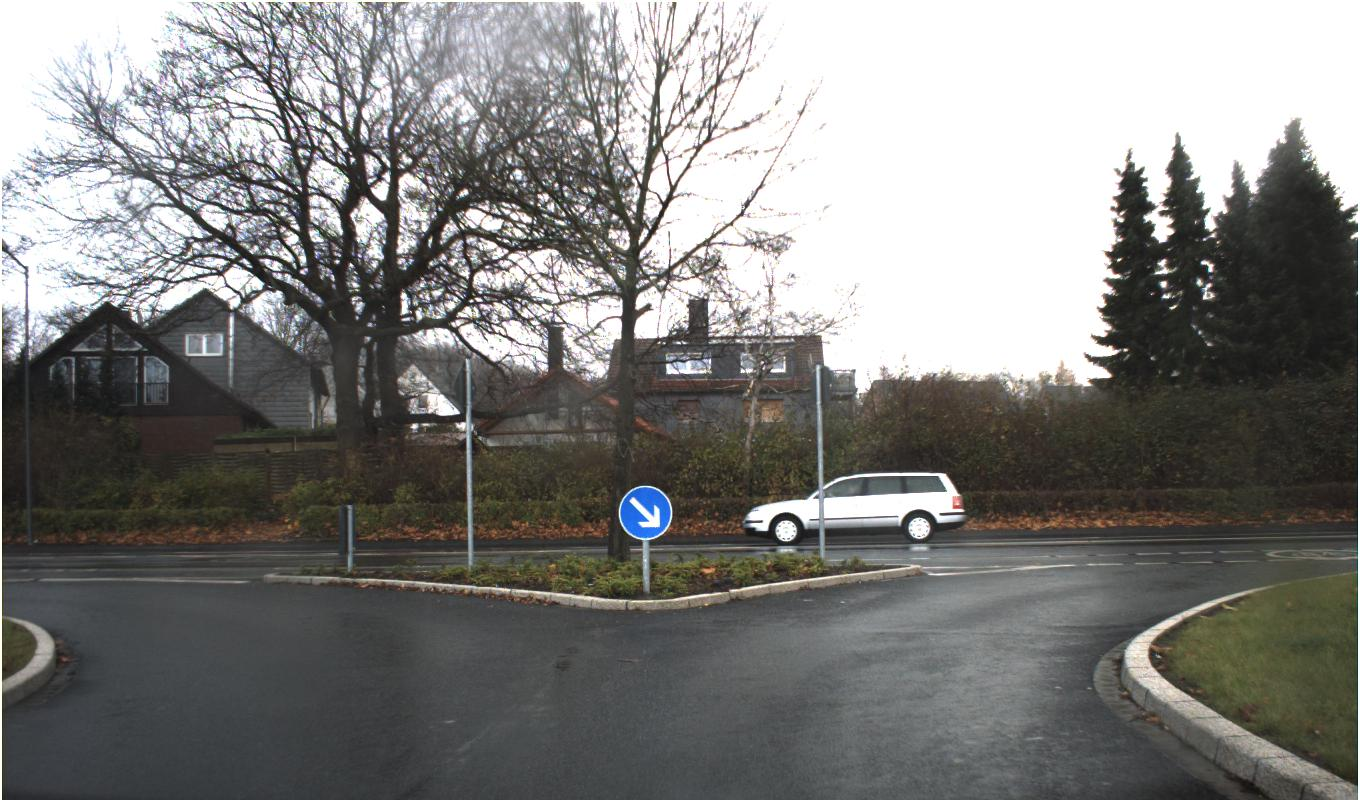mandatory: (617, 484, 673, 540)
